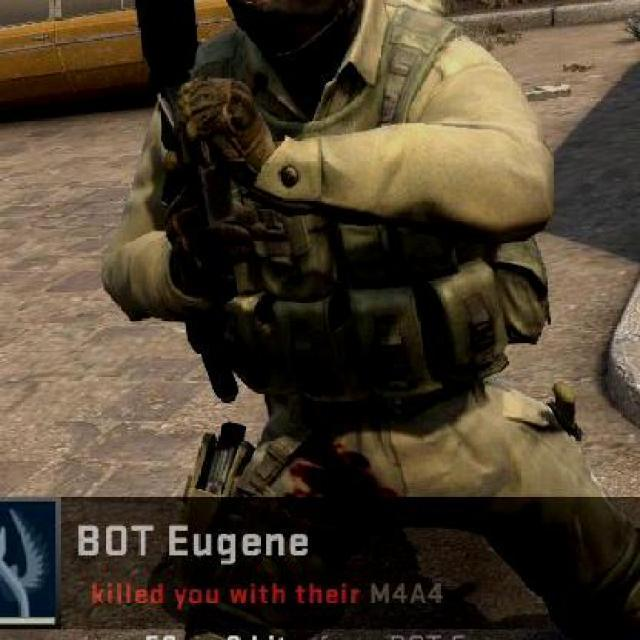CT: (73, 0, 638, 638)
